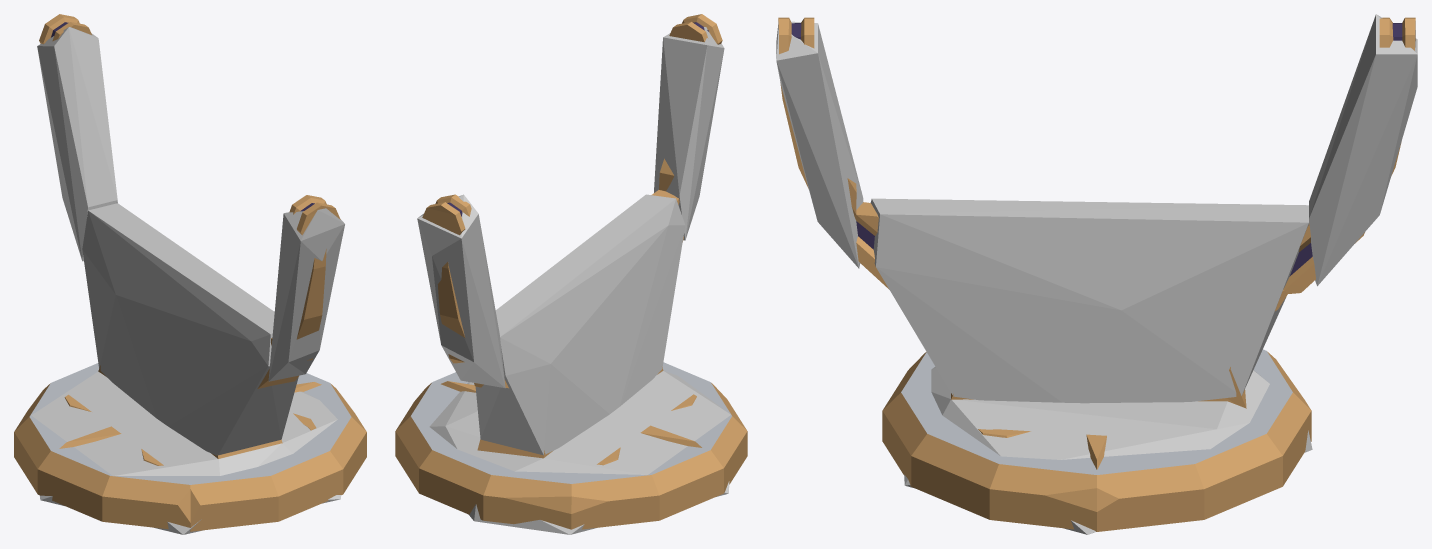
Rendered from SM_Prop_Constellation_Rings_01_Stand_01.fbx.
The picture shows the model from 3 angles, left to right: view 1: azimuth 30°, elevation 25°; view 2: azimuth 150°, elevation 25°; view 3: azimuth 270°, elevation 25°; orthographic projection. The views are drawn at different scales.
Visible parts, largest first — view 1: SM_Prop_Constellation_Rings_01_Stand_01_ConvexHulls, SM_Prop_Constellation_Rings_01_Stand_01; view 2: SM_Prop_Constellation_Rings_01_Stand_01_ConvexHulls, SM_Prop_Constellation_Rings_01_Stand_01; view 3: SM_Prop_Constellation_Rings_01_Stand_01_ConvexHulls, SM_Prop_Constellation_Rings_01_Stand_01.
Part boxes in pixels (x1=…): SM_Prop_Constellation_Rings_01_Stand_01_ConvexHulls: x1=31, y1=27, x2=344, y2=534; SM_Prop_Constellation_Rings_01_Stand_01: x1=14, y1=14, x2=366, y2=531; SM_Prop_Constellation_Rings_01_Stand_01_ConvexHulls: x1=417, y1=27, x2=730, y2=534; SM_Prop_Constellation_Rings_01_Stand_01: x1=395, y1=14, x2=747, y2=529; SM_Prop_Constellation_Rings_01_Stand_01_ConvexHulls: x1=776, y1=14, x2=1417, y2=534; SM_Prop_Constellation_Rings_01_Stand_01: x1=778, y1=17, x2=1415, y2=531.
Bounding box in the file's own units: 116 × 172 × 126.
Materials: 2 (1 with a texture image).
